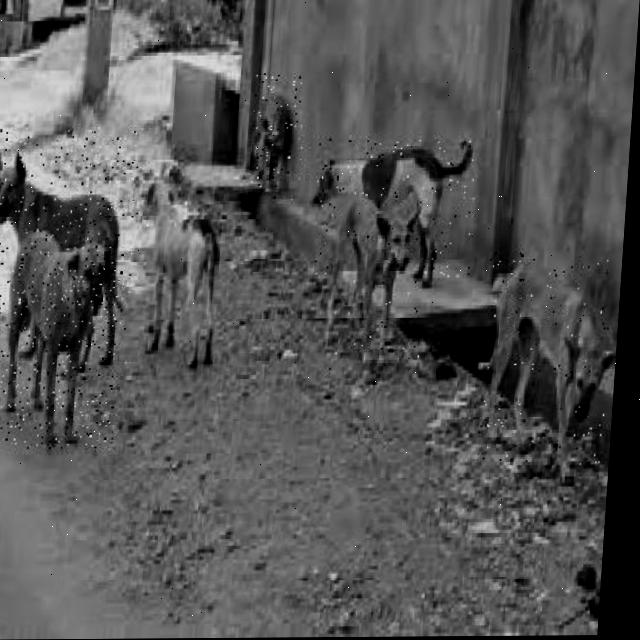Dog: (0, 127, 146, 374), (475, 252, 617, 468), (0, 237, 127, 451), (309, 136, 480, 281), (133, 156, 234, 376), (324, 197, 431, 377), (246, 74, 309, 204)
